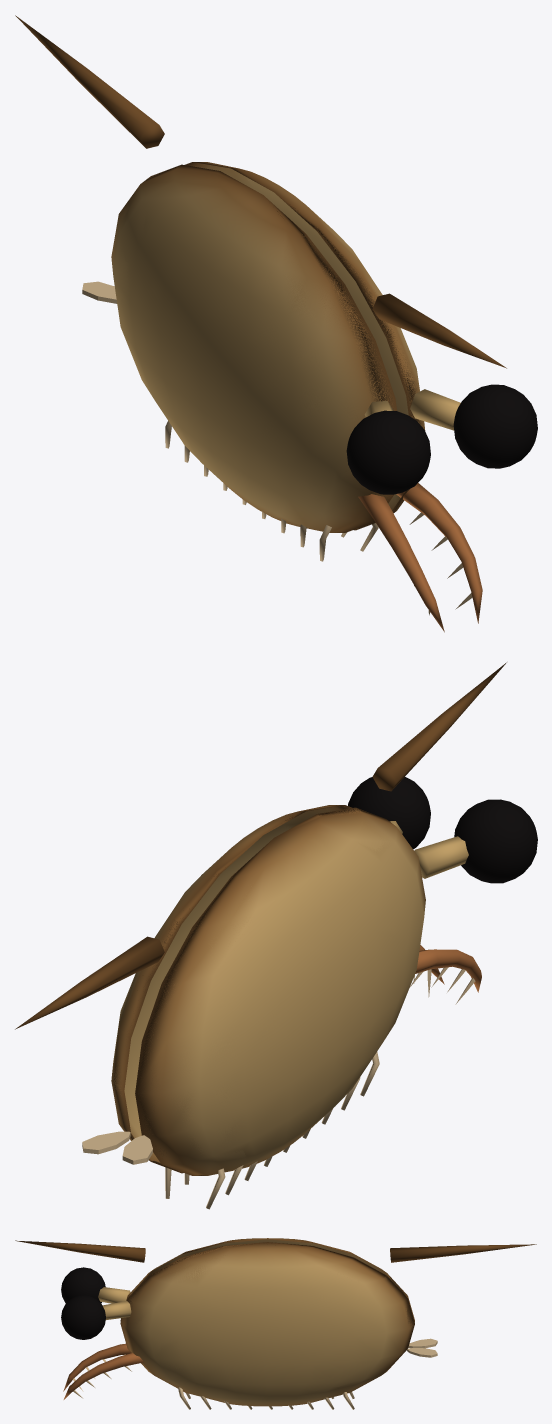
File: Isoxys.fbx
3 views of the same model, one above another, from view 1: azimuth 30°, elevation 25°; view 2: azimuth 150°, elevation 25°; view 3: azimuth 270°, elevation 25° (orthographic). The views are drawn at different scales.
Parts seen in each view (by area): view 1: Isoxys; view 2: Isoxys; view 3: Isoxys.
Boxes of the visible parts, x1,y1,x2,y2 form: Isoxys: [15, 15, 537, 632]; Isoxys: [15, 662, 537, 1209]; Isoxys: [15, 1238, 536, 1409].
Bounding box in the file's own units: 0.27 × 0.4413 × 1.28.
